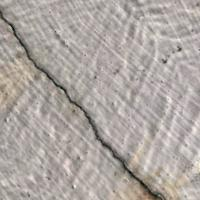crack: (0, 5, 170, 199)
